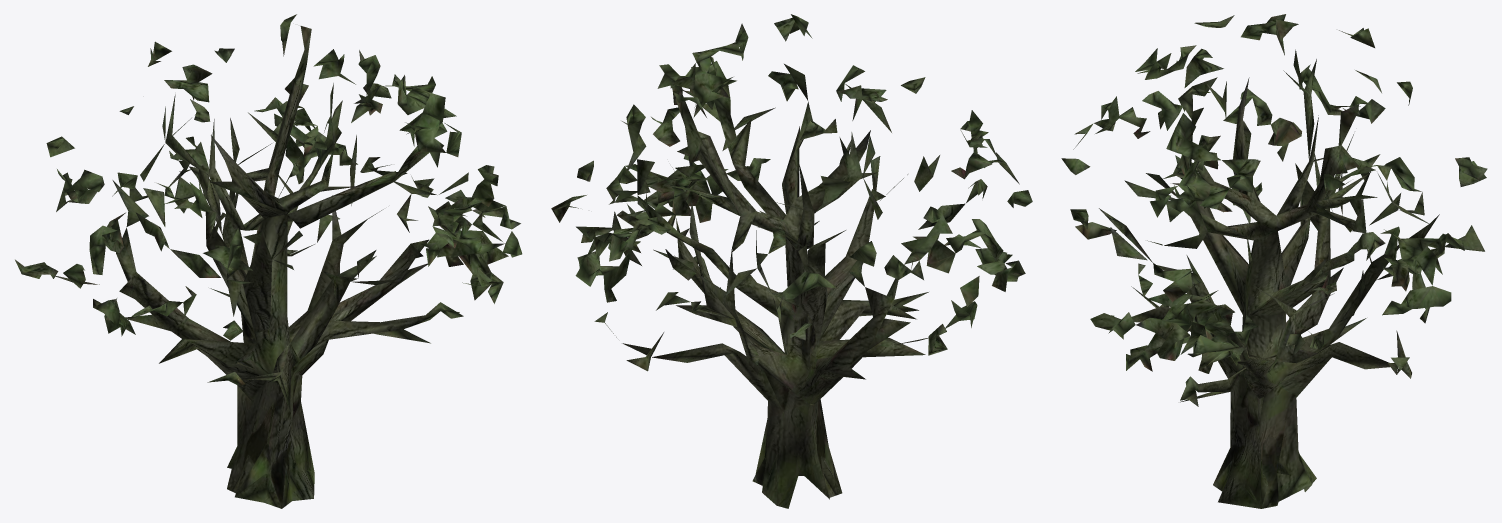
Rendered from appletree.glb.
The picture shows the model from 3 angles, left to right: view 1: azimuth 30°, elevation 25°; view 2: azimuth 150°, elevation 25°; view 3: azimuth 270°, elevation 25°; orthographic projection. The views are drawn at different scales.
Visible parts, largest first — view 1: Mesh_0; view 2: Mesh_0; view 3: Mesh_0.
Boxes of the visible parts, box(x1,y1,x2,y2) form: Mesh_0: box(15, 14, 522, 508); Mesh_0: box(551, 14, 1032, 508); Mesh_0: box(1061, 14, 1487, 508).
Size of the model in its own units: 1.73 by 1.79 by 1.5.
1 material, 1 textured.
